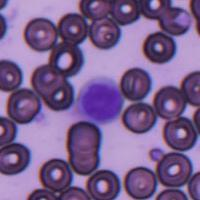L: (76, 76, 123, 123)
